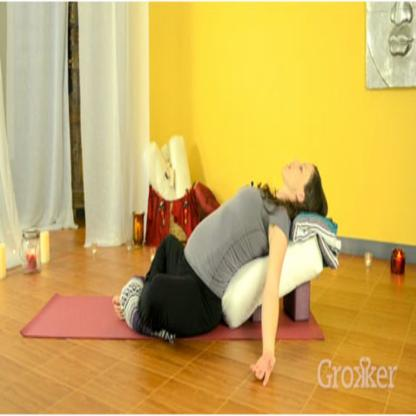godness: (106, 150, 337, 384)
